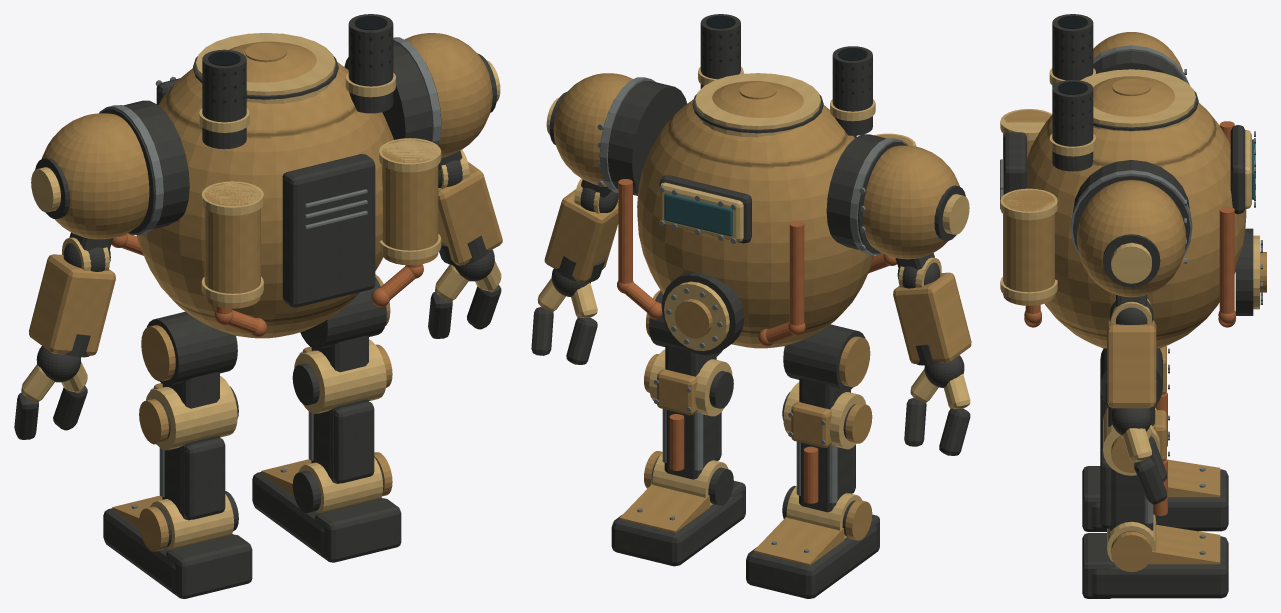
The picture shows the model from 3 angles, left to right: view 1: azimuth 30°, elevation 25°; view 2: azimuth 150°, elevation 25°; view 3: azimuth 270°, elevation 25°; orthographic projection. The views are drawn at different scales.
Bounding box in the file's own units: 3.74 × 4.01 × 1.95.
1 material, 1 textured.
